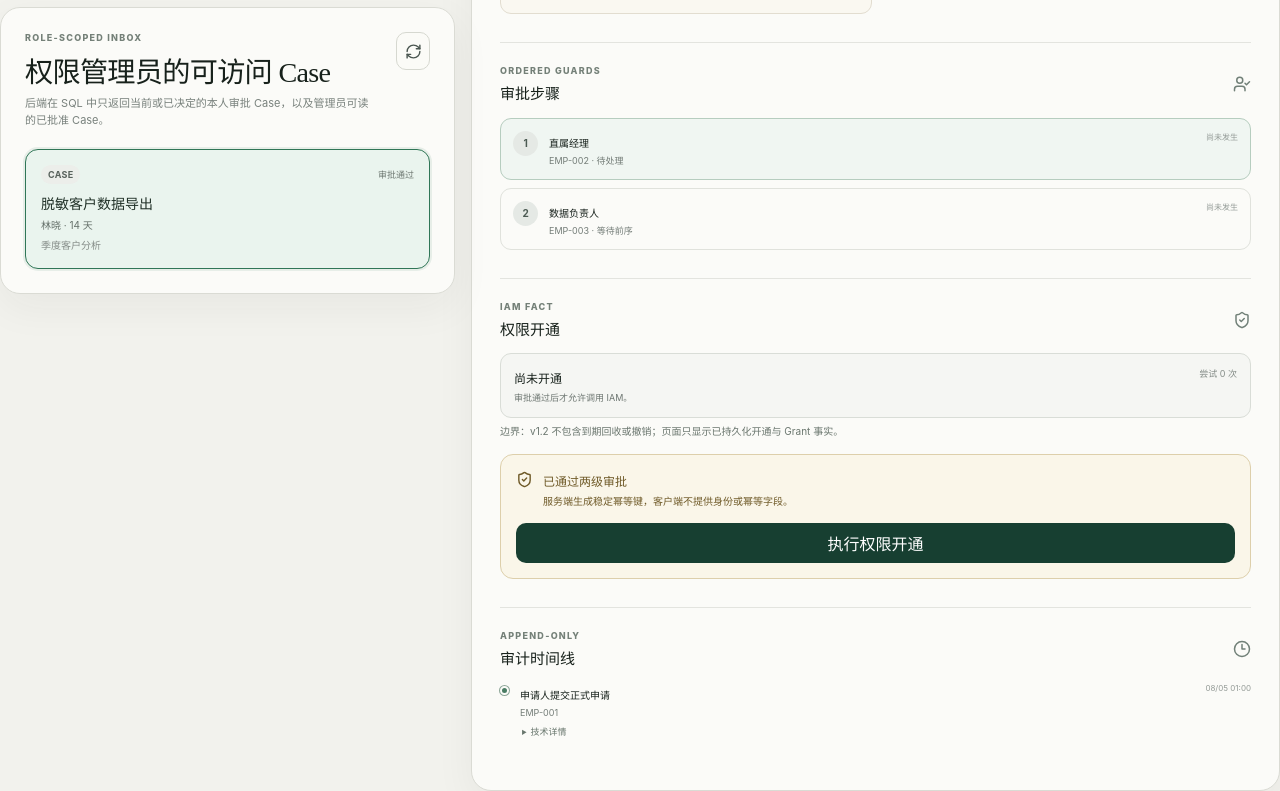
Scenario: OperationsConsole T23 admin actions › keeps a failed action visible and retryable
(page scrolled)
What coordinates should you click on to do the following:
click the button "执行权限开通"
I would click on:
 (876, 543)
Its box is [516,523,1235,563].
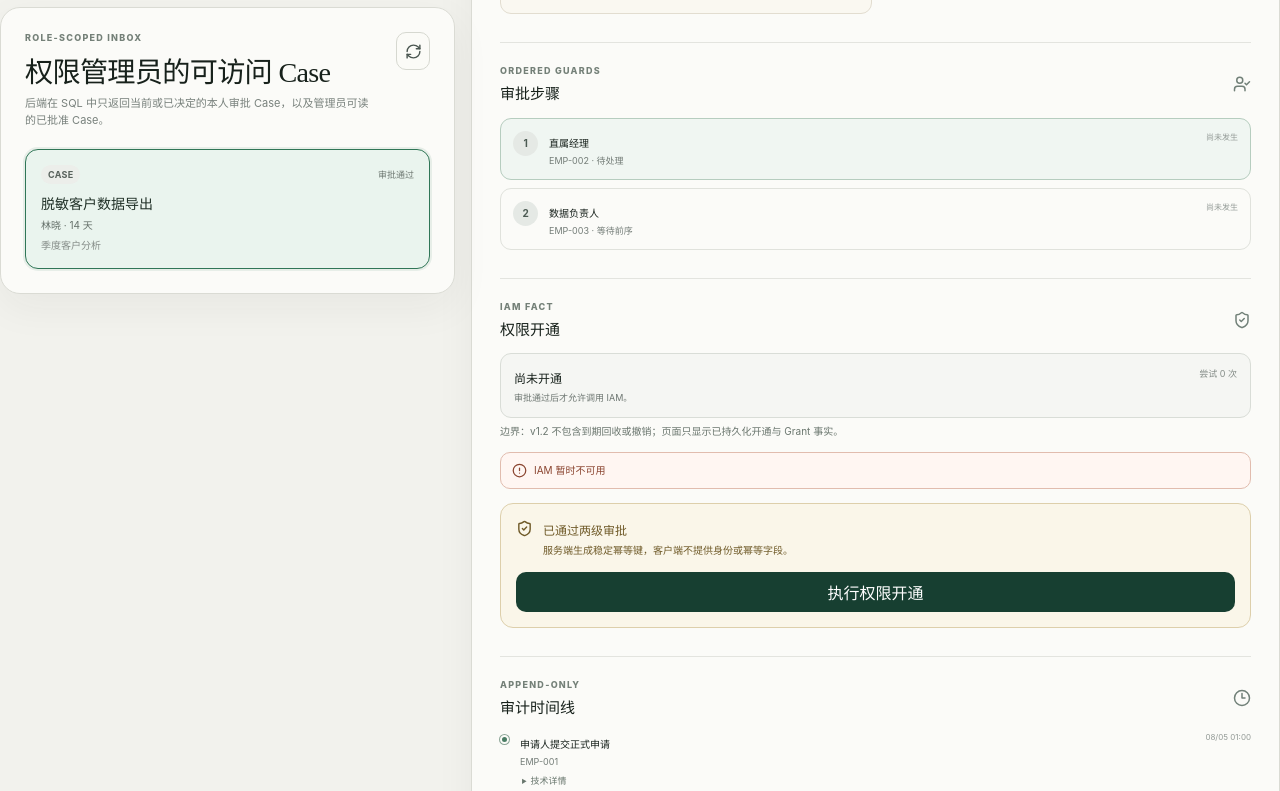
expect the button "执行权限开通" is enabled: met, box [516,572,1235,612]
expect the message reads "IAM 暂时不可用": met, box [534,464,605,476]
